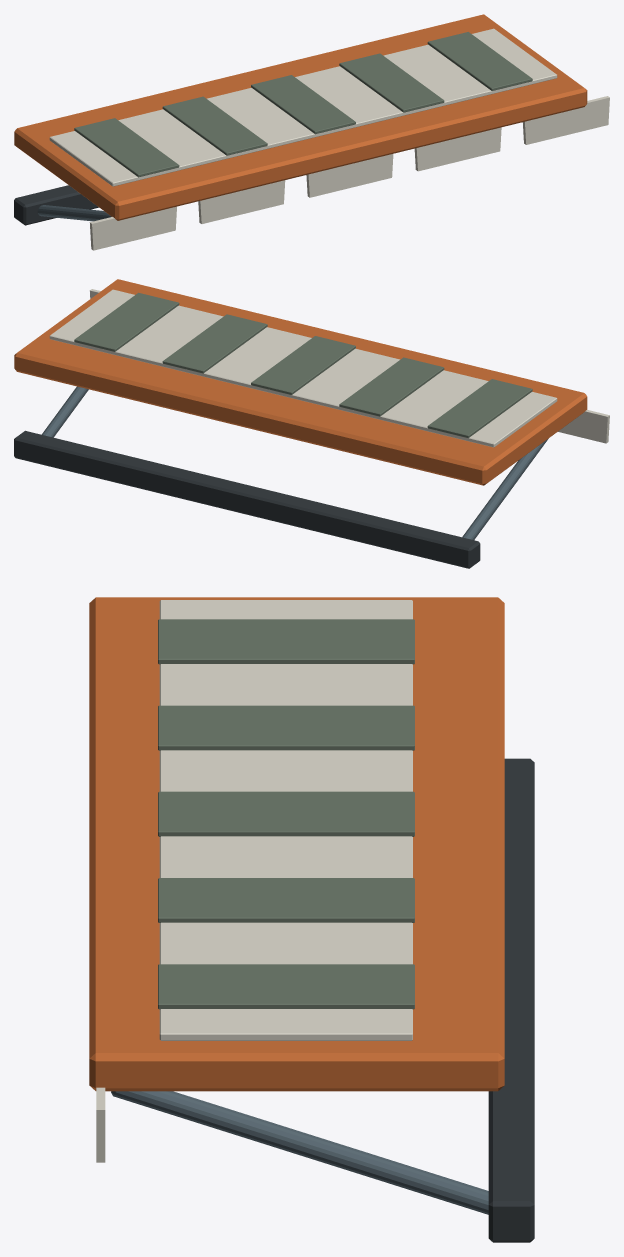
The model's file is PRP_CITY_007_awning.glb.
3 views of the same model, one above another, from view 1: azimuth 30°, elevation 25°; view 2: azimuth 150°, elevation 25°; view 3: azimuth 270°, elevation 25° (orthographic). The views are drawn at different scales.
Visible parts, largest first — view 1: PRP_CITY_007_awning_RenderMesh; view 2: PRP_CITY_007_awning_RenderMesh; view 3: PRP_CITY_007_awning_RenderMesh.
Boxes of the visible parts, <box> form: PRP_CITY_007_awning_RenderMesh: <box>14,14,609,250</box>; PRP_CITY_007_awning_RenderMesh: <box>14,279,609,568</box>; PRP_CITY_007_awning_RenderMesh: <box>89,597,534,1242</box>.
Bounding box in the file's own units: 3.4 × 0.658 × 1.26.
